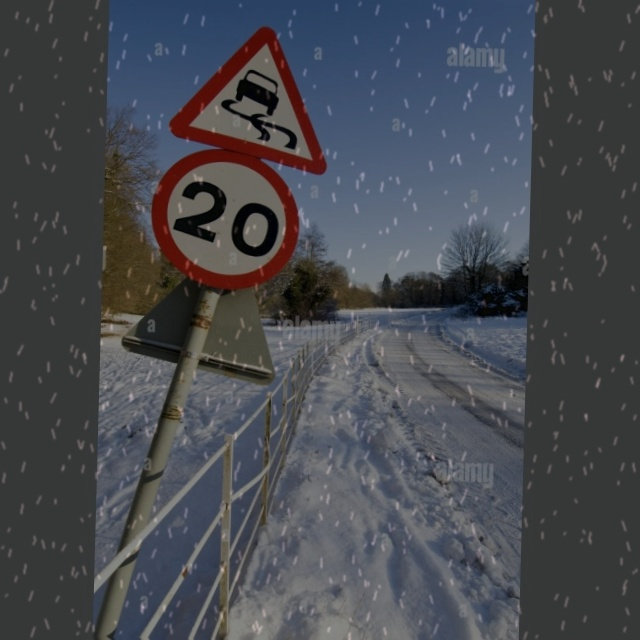Slippery_Road: (170, 24, 336, 166)
